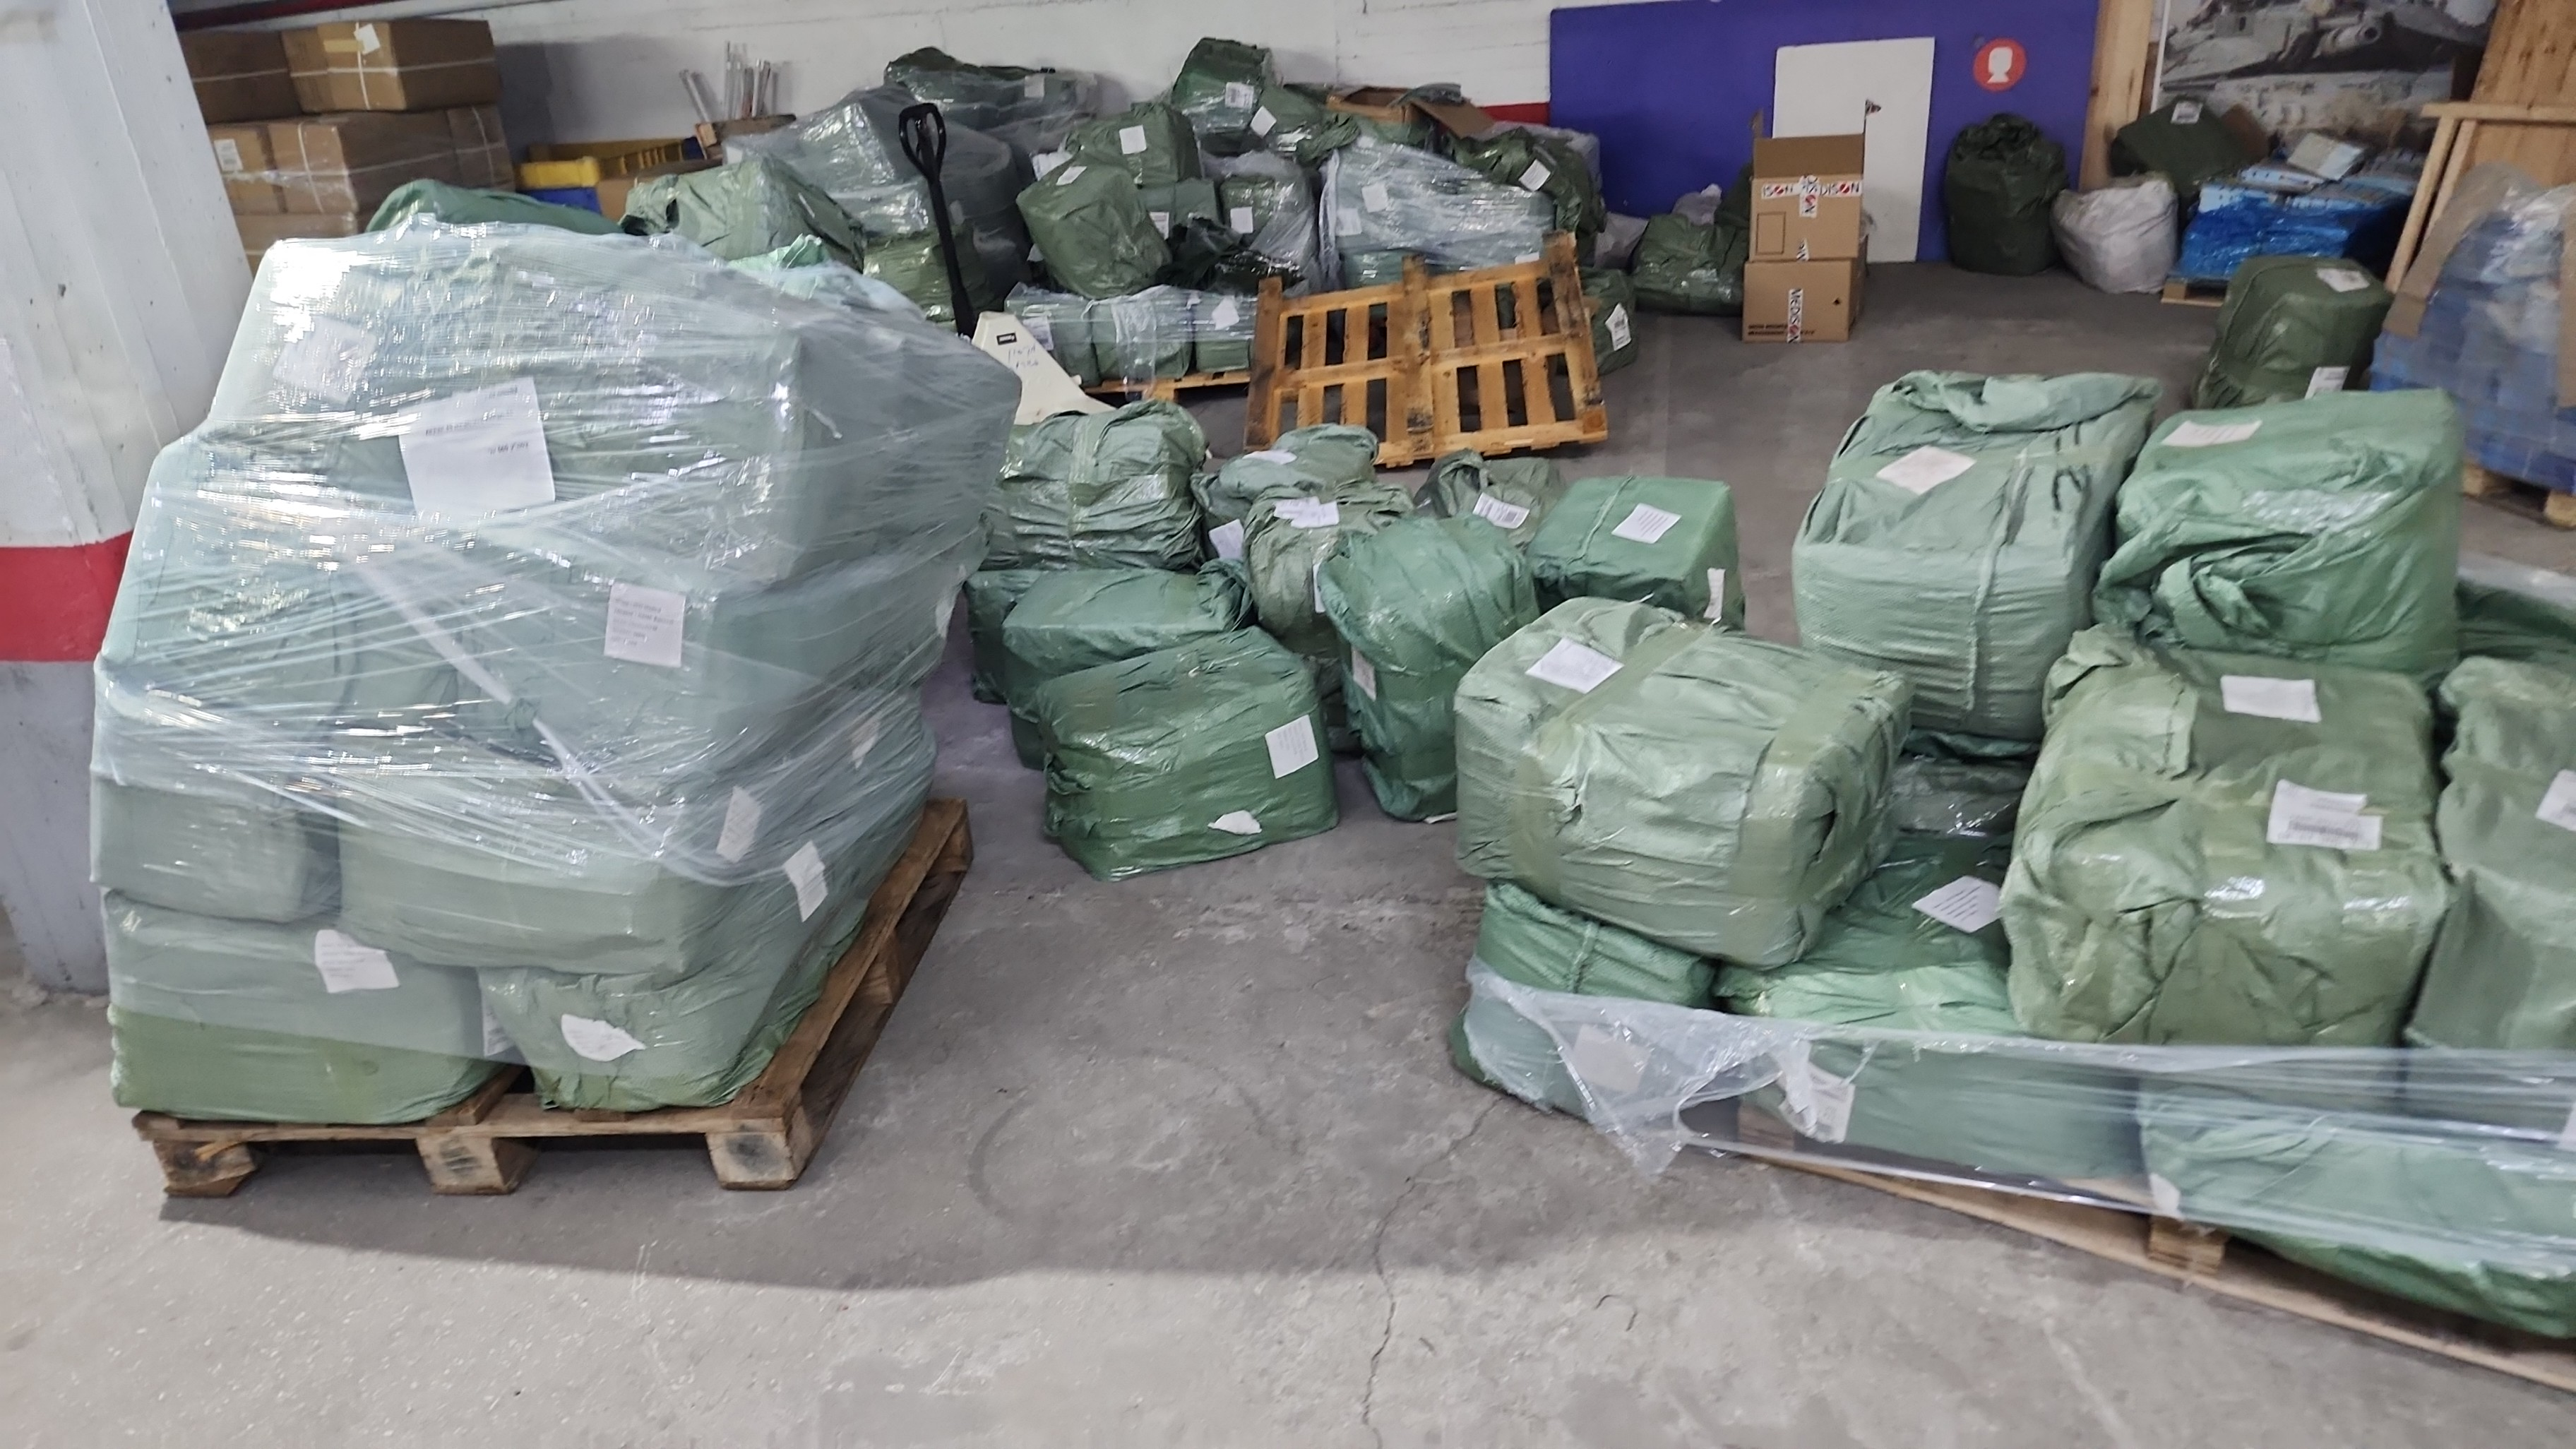box: (2019, 669, 2461, 1083), (1490, 573, 1909, 945), (426, 552, 943, 821), (99, 874, 559, 1145), (1817, 333, 2105, 715), (96, 455, 483, 738), (2118, 387, 2466, 683), (1030, 639, 1336, 895), (1336, 487, 1532, 791), (88, 683, 331, 924), (455, 957, 731, 1122), (1040, 157, 1233, 304), (1725, 246, 1898, 366), (1725, 152, 1856, 269)
